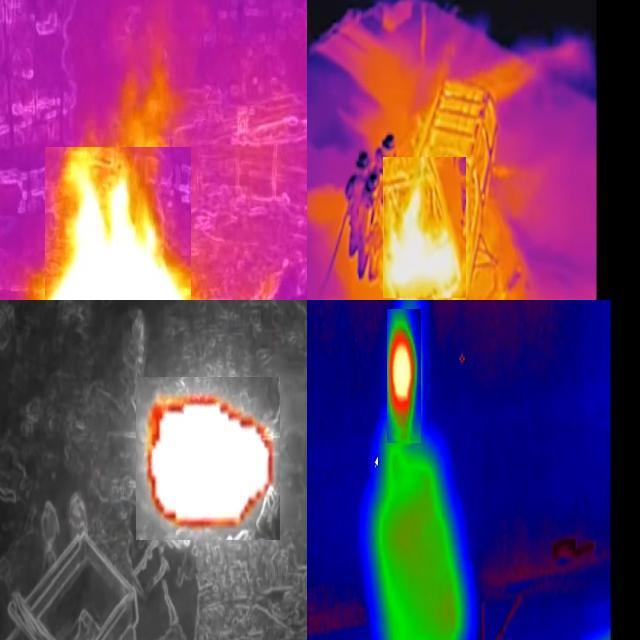fire: (137, 378, 281, 541), (46, 148, 192, 301), (384, 158, 467, 299), (388, 310, 422, 444)
